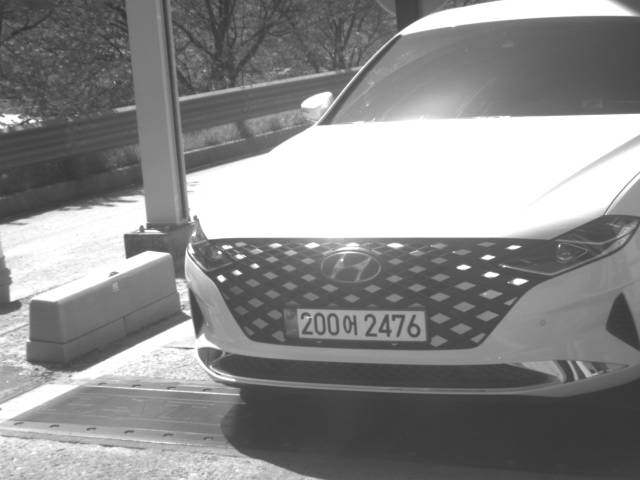car: (182, 1, 637, 405)
plate: (281, 304, 430, 344)
